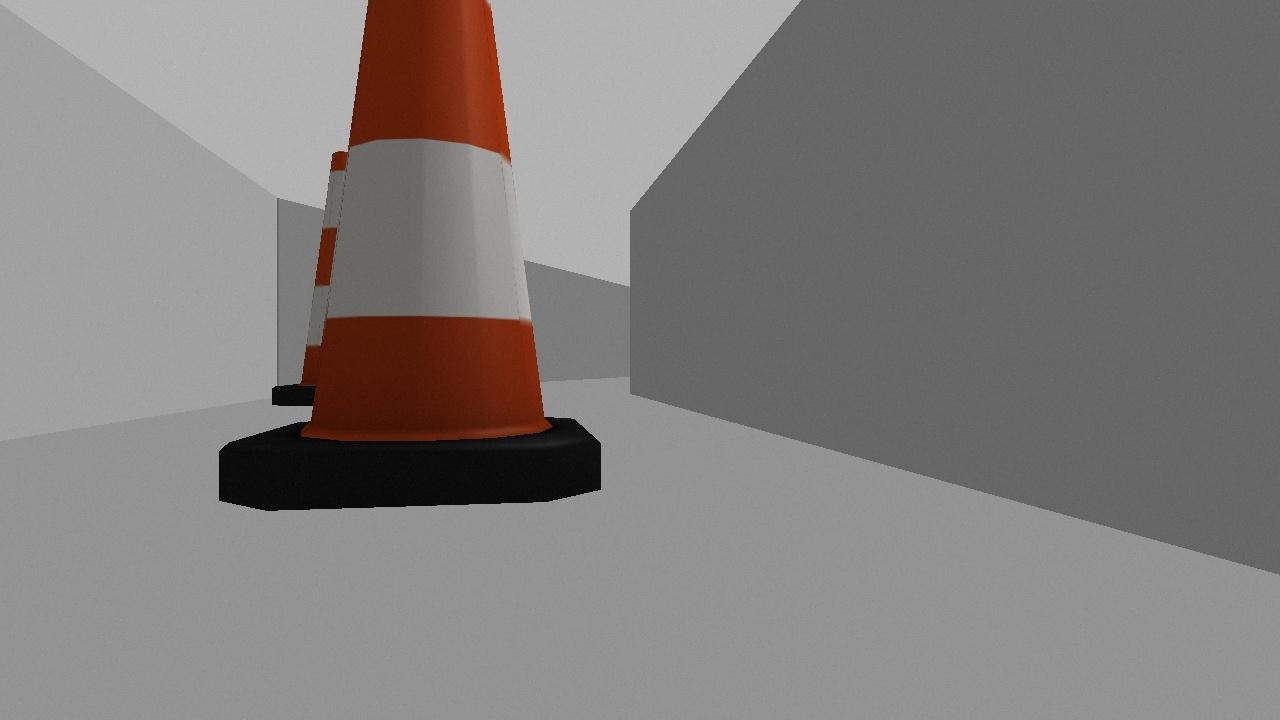cone_barrel: (194, 0, 617, 525), (262, 140, 397, 417)
